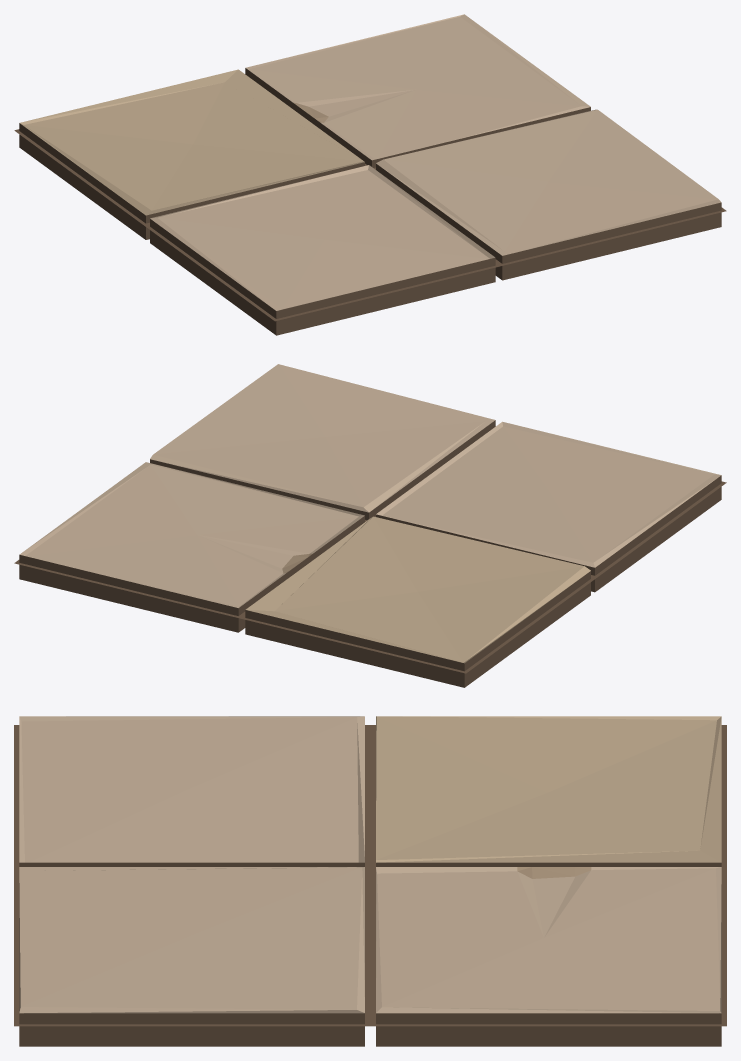
The model's file is SM_Ground_PavingTile_Clean_03.fbx.
3 views of the same model, one above another, from view 1: azimuth 30°, elevation 25°; view 2: azimuth 150°, elevation 25°; view 3: azimuth 270°, elevation 25° (orthographic). The views are drawn at different scales.
Parts seen in each view (by area): view 1: SM_Ground_PavingTile_Clean_03; view 2: SM_Ground_PavingTile_Clean_03; view 3: SM_Ground_PavingTile_Clean_03.
Boxes of the visible parts, left/top/right/bottom form: SM_Ground_PavingTile_Clean_03: left=14, top=14, right=726, bottom=335; SM_Ground_PavingTile_Clean_03: left=14, top=364, right=726, bottom=687; SM_Ground_PavingTile_Clean_03: left=14, top=716, right=726, bottom=1046.
Size of the model in its own units: 1 by 0.0592 by 1.
1 material, 1 textured.
